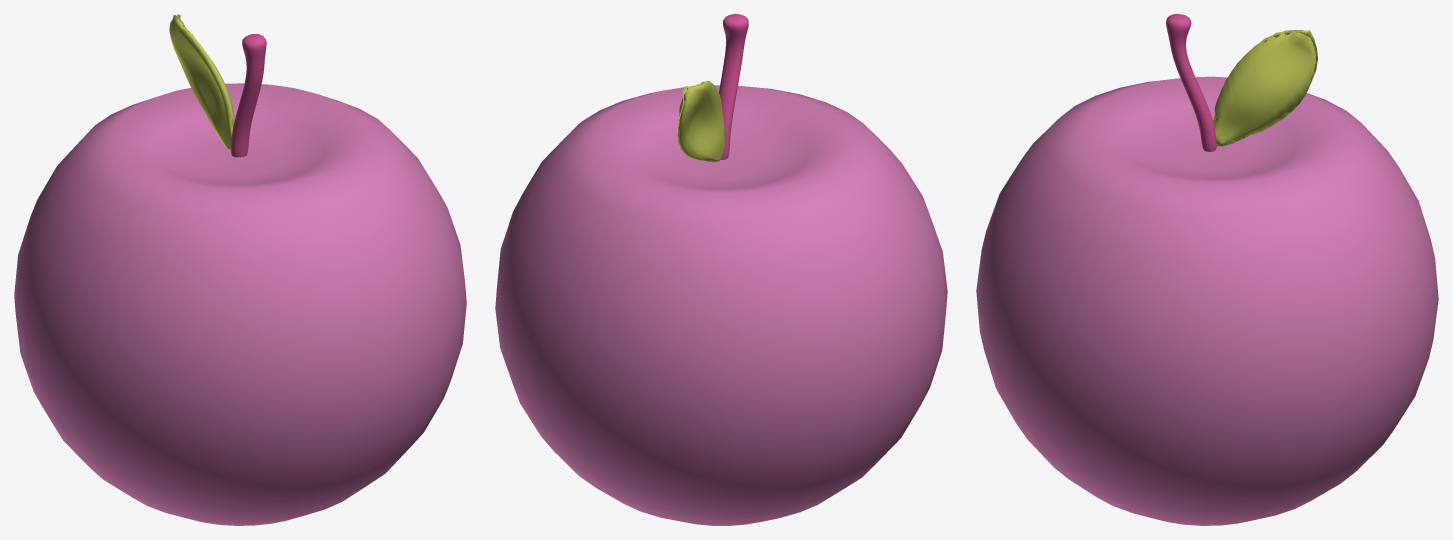
The model's file is AppleColor.glb.
The picture shows the model from 3 angles, left to right: view 1: azimuth 30°, elevation 25°; view 2: azimuth 150°, elevation 25°; view 3: azimuth 270°, elevation 25°; orthographic projection. The views are drawn at different scales.
Parts seen in each view (by area): view 1: Sphere, Circle, Cube; view 2: Sphere, Circle, Cube; view 3: Sphere, Circle, Cube.
Boxes of the visible parts, x1,y1,x2,y2 form: Sphere: (14, 83, 466, 525); Circle: (169, 14, 234, 151); Cube: (231, 34, 266, 157); Sphere: (495, 85, 947, 525); Circle: (677, 81, 725, 162); Cube: (719, 14, 748, 159); Sphere: (976, 76, 1438, 525); Circle: (1213, 30, 1317, 146); Cube: (1166, 14, 1216, 151).
Bounding box in the file's own units: 1.99 × 2.32 × 1.99.
